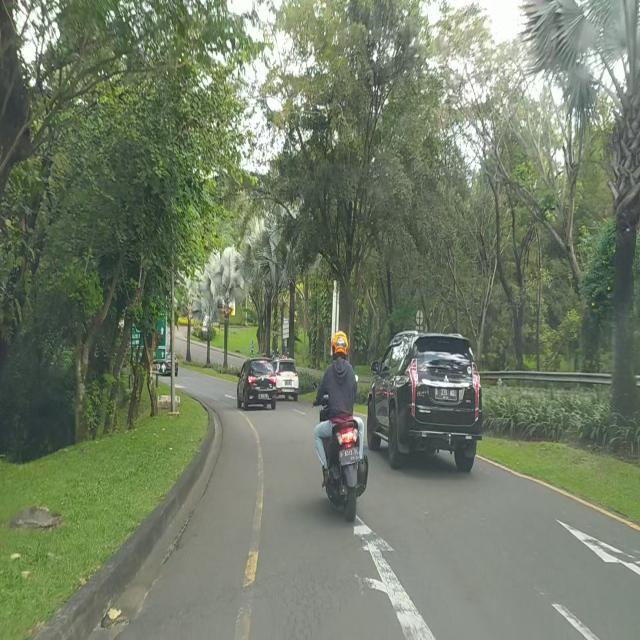Drain Hole: (278, 575, 350, 640)
